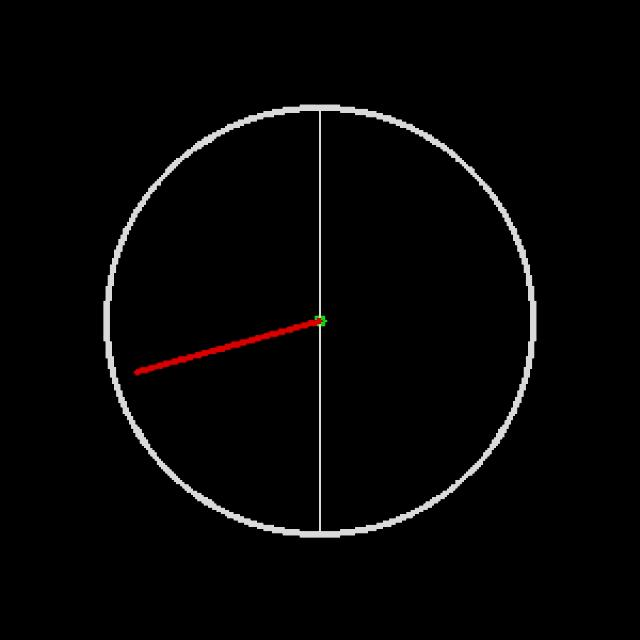Needle_Tip: (115, 350, 162, 392)
Needle_base: (281, 285, 343, 358)
